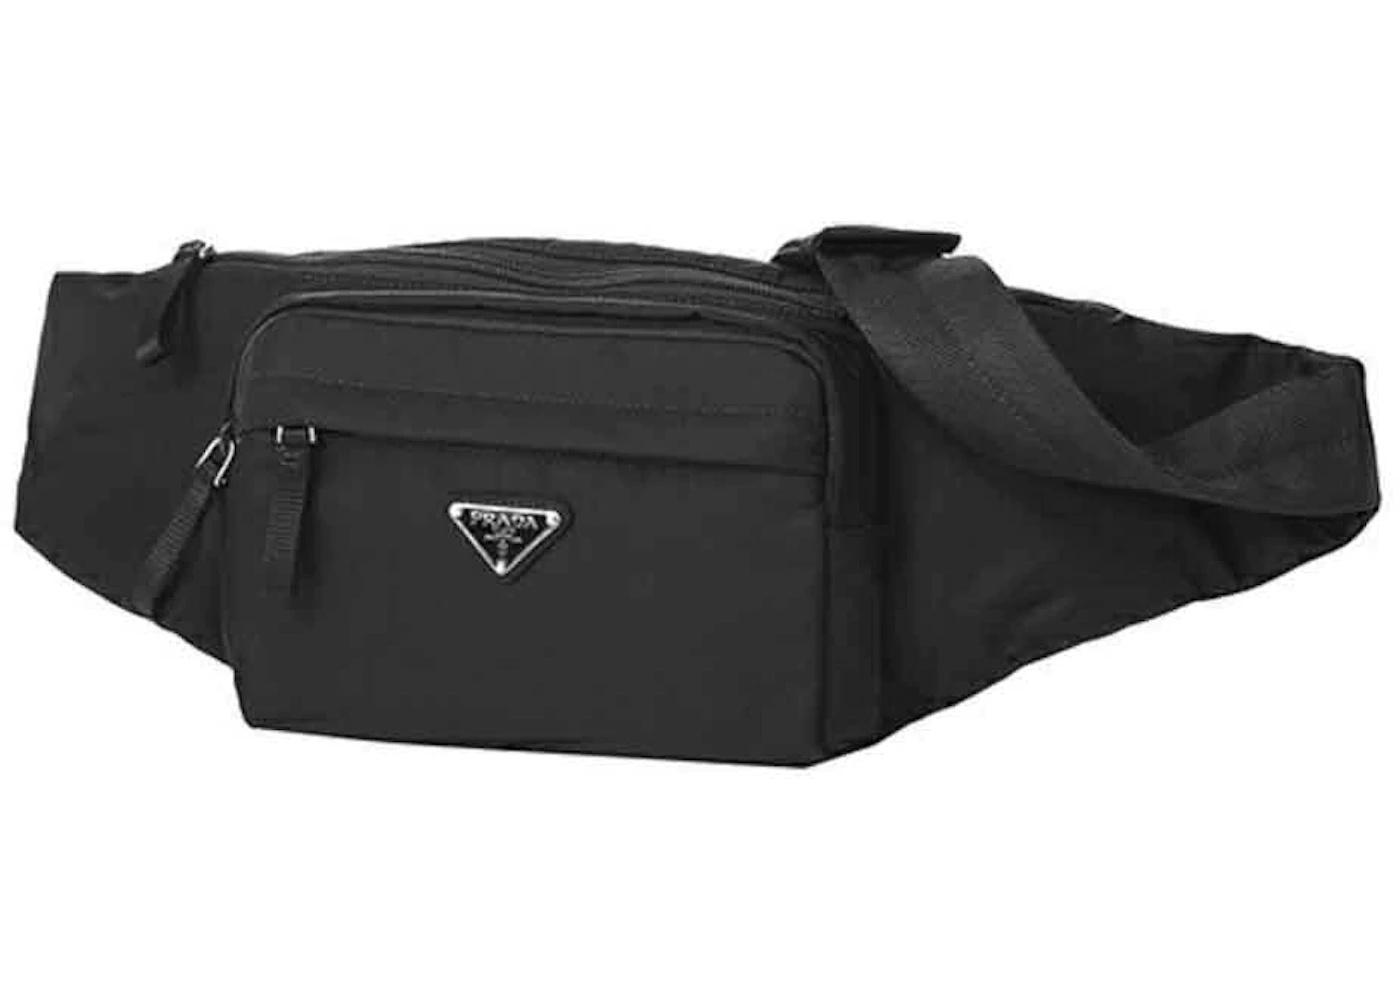PRADA: (447, 502, 563, 575)
